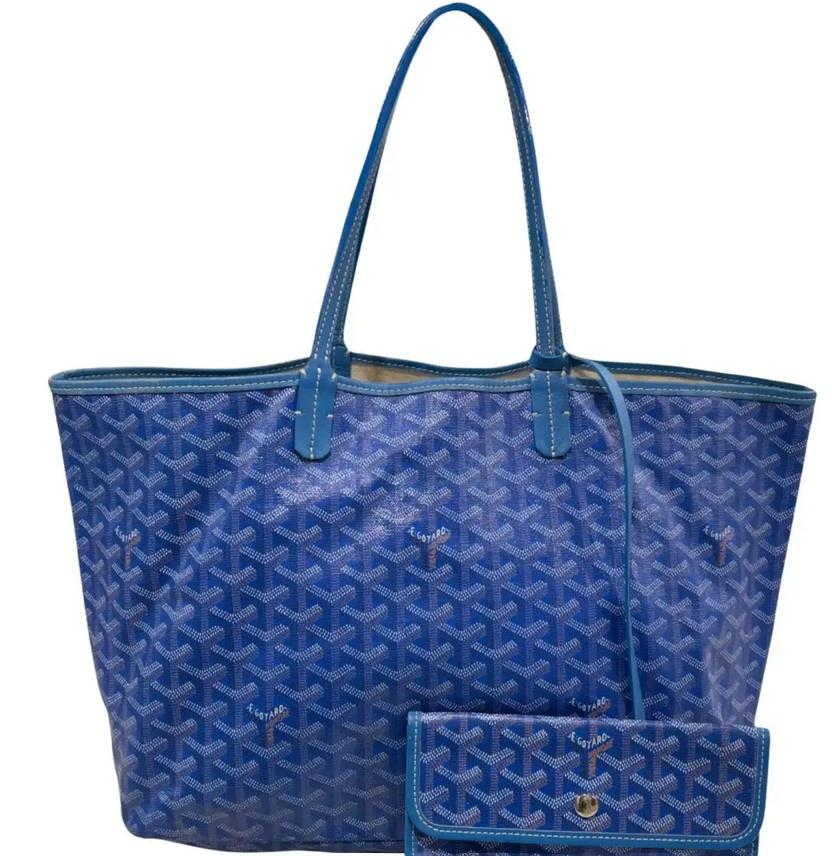GOYARD: (51, 389, 816, 853), (417, 711, 757, 856)
